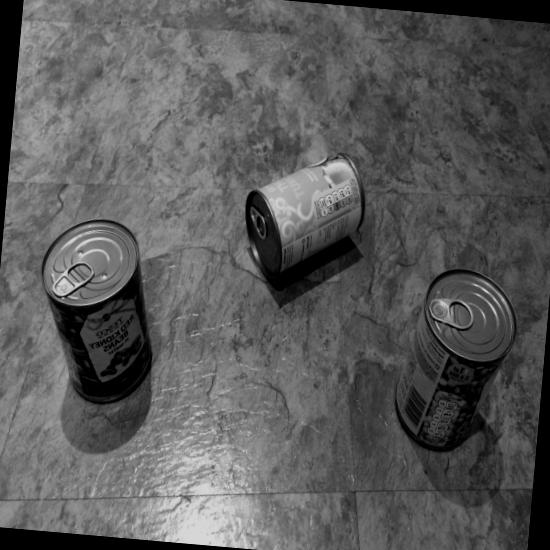Food Can: (395, 269, 517, 450), (41, 219, 150, 402), (245, 152, 364, 278)
Pop tab: (52, 261, 94, 297), (429, 298, 473, 330), (250, 206, 266, 239), (450, 304, 470, 326), (68, 265, 91, 282), (257, 216, 264, 235)
